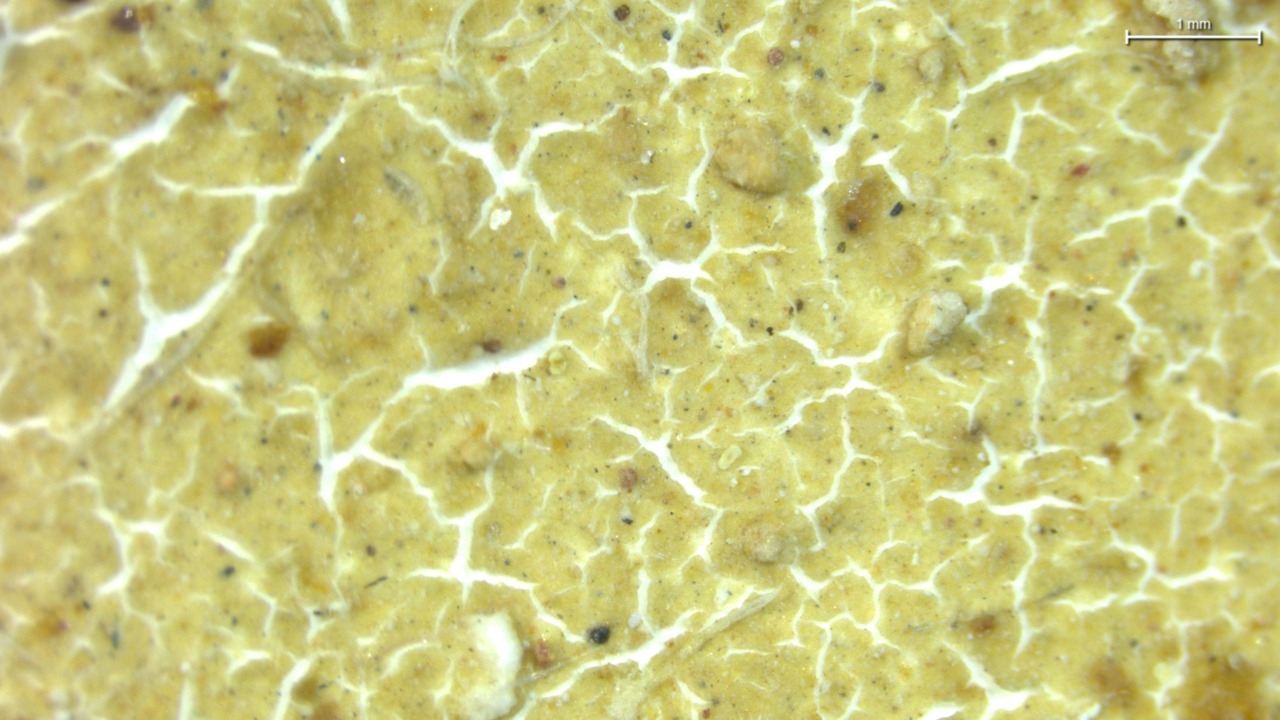microplastic_fragment: (466, 616, 522, 714), (710, 122, 787, 193), (912, 291, 969, 358)
